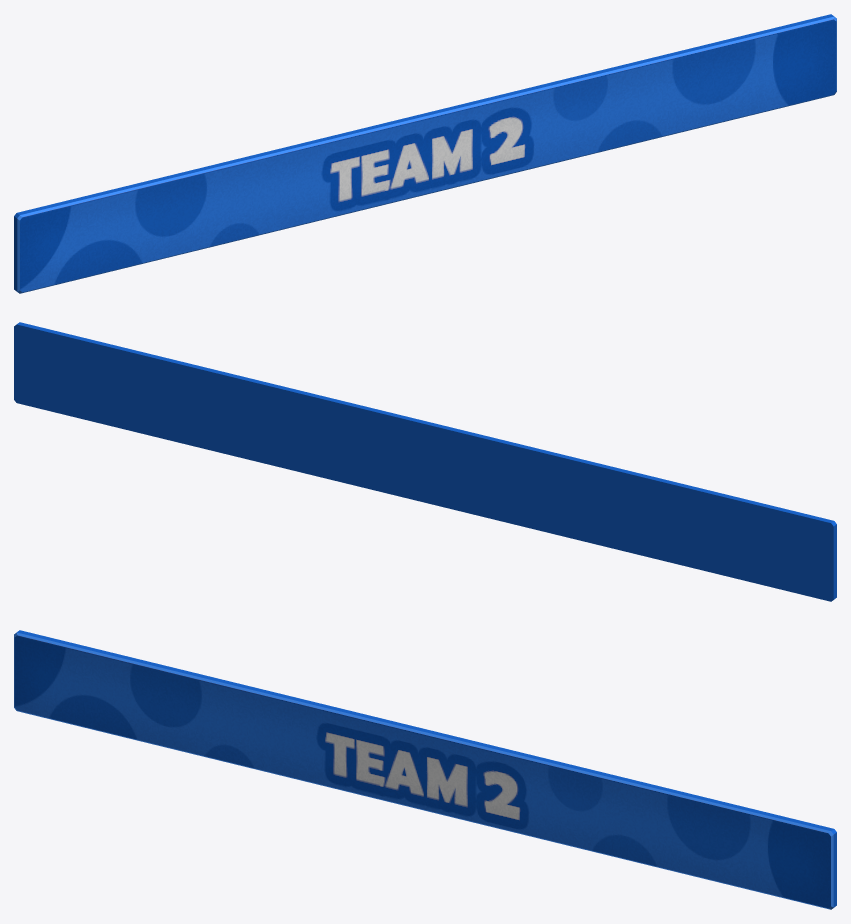
Rendered from billboards_3_C.fbx.
The picture shows the model from 3 angles, top to bottom: view 1: azimuth 30°, elevation 25°; view 2: azimuth 150°, elevation 25°; view 3: azimuth 330°, elevation 25°; orthographic projection.
Parts seen in each view (by area): view 1: billboards_3_C; view 2: billboards_3_C; view 3: billboards_3_C.
Boxes of the visible parts, x1,y1,x2,y2 form: billboards_3_C: [14, 14, 836, 293]; billboards_3_C: [14, 322, 836, 601]; billboards_3_C: [14, 630, 836, 909].
Bounding box in the file's own units: 680 × 62.33 × 6.
